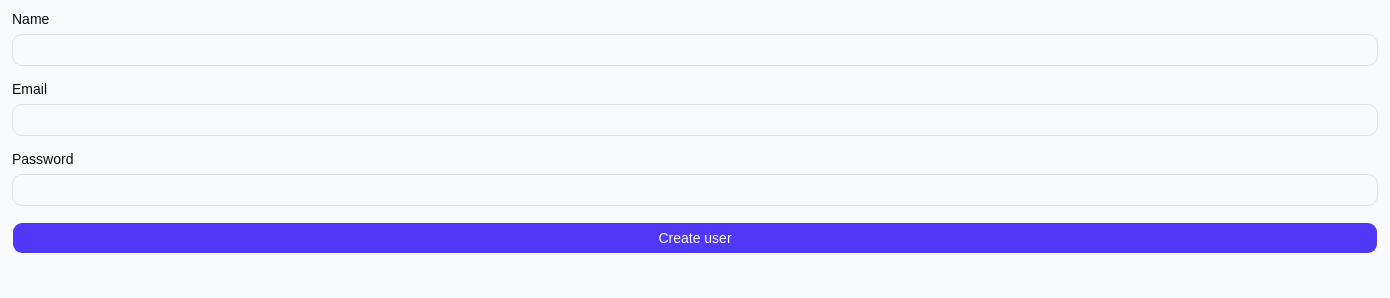
UserForm › validation › rejects an invalid email
Type "Alice" into the field labelled "Name".
click(695, 50); type("Alice")  # box 12,34 -> 1378,66
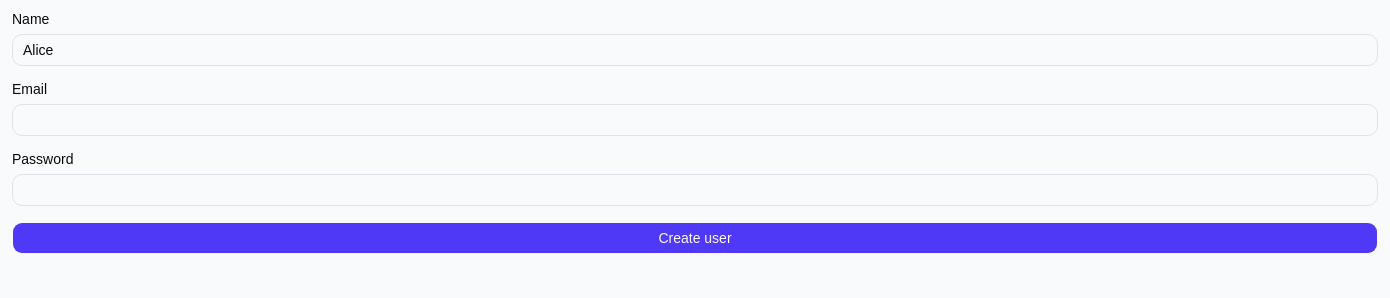
Type "not-an-email" into the field labelled "Email".
click(695, 120); type("not-an-email")  # box 12,104 -> 1378,136
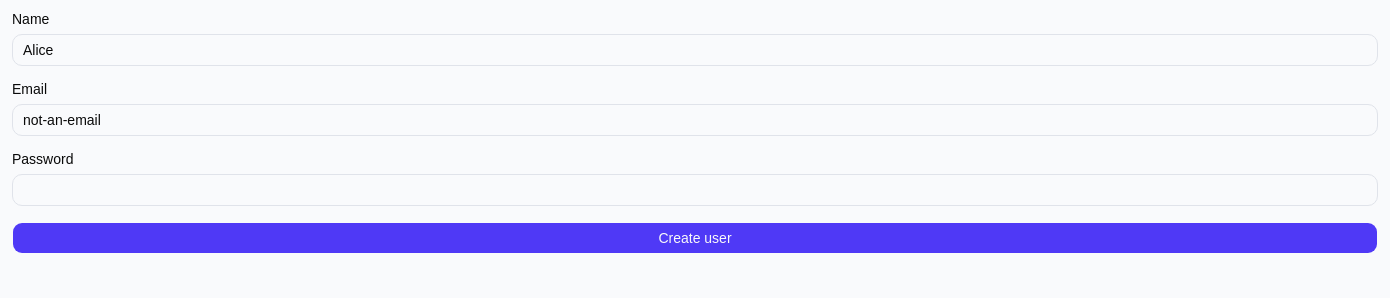
Type "password" into the password field labelled "Password".
click(695, 190); type("password")  # box 12,174 -> 1378,206
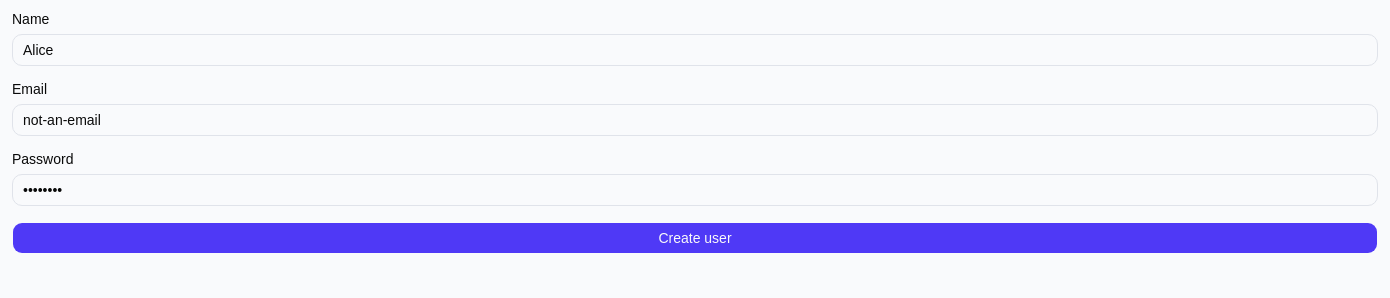
Click the button "Create user".
click(695, 238)  # box 12,222 -> 1378,254
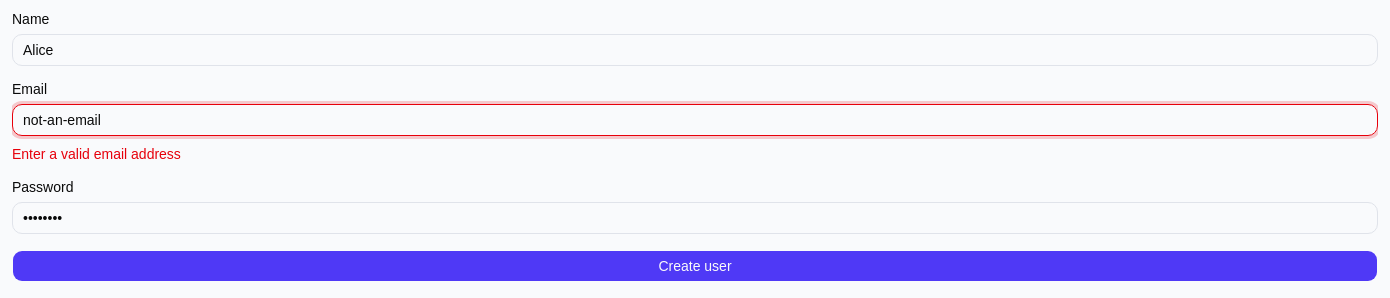
Now the text "Enter a valid email address" is shown, box 12,146 -> 181,162
